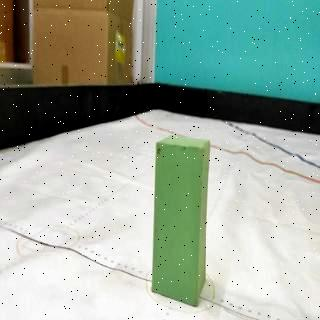greenbox: (151, 132, 212, 307)
